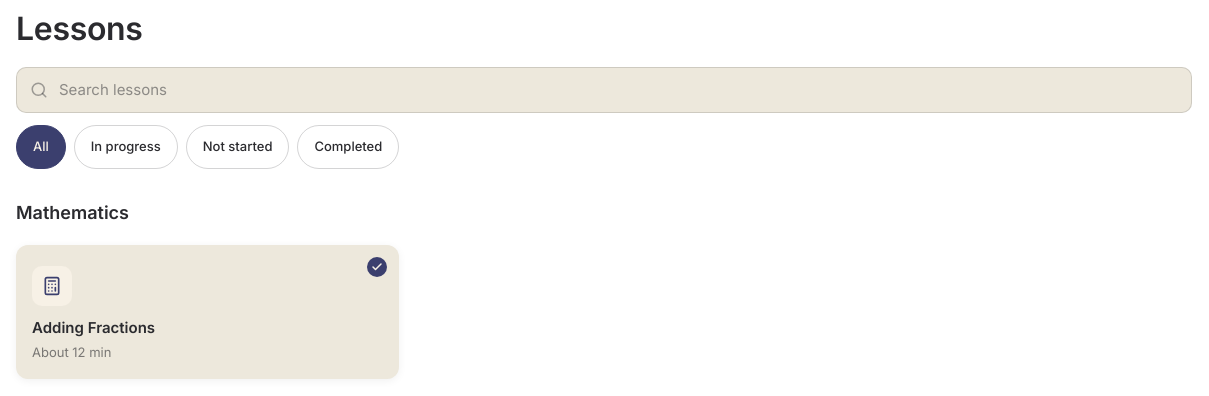
Test: the empty state names what is actually narrowing the list › says the In progress chip's own line when it empties the list
Click the button "In progress" at coordinates (126, 147), box [74,125,178,169]
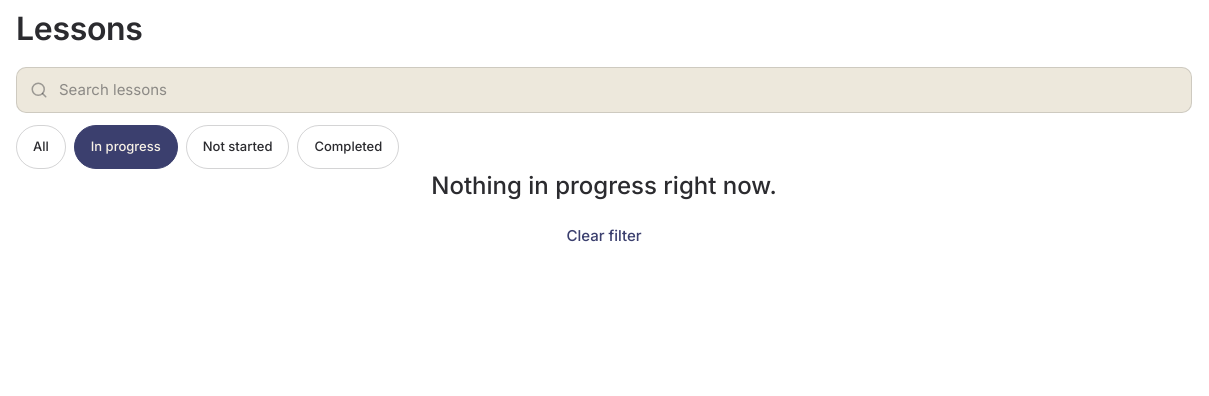
Now the heading "Nothing in progress right now." is shown, box [431,170,777,203]
Now the button "Clear filter" is shown, box [546,225,662,247]
